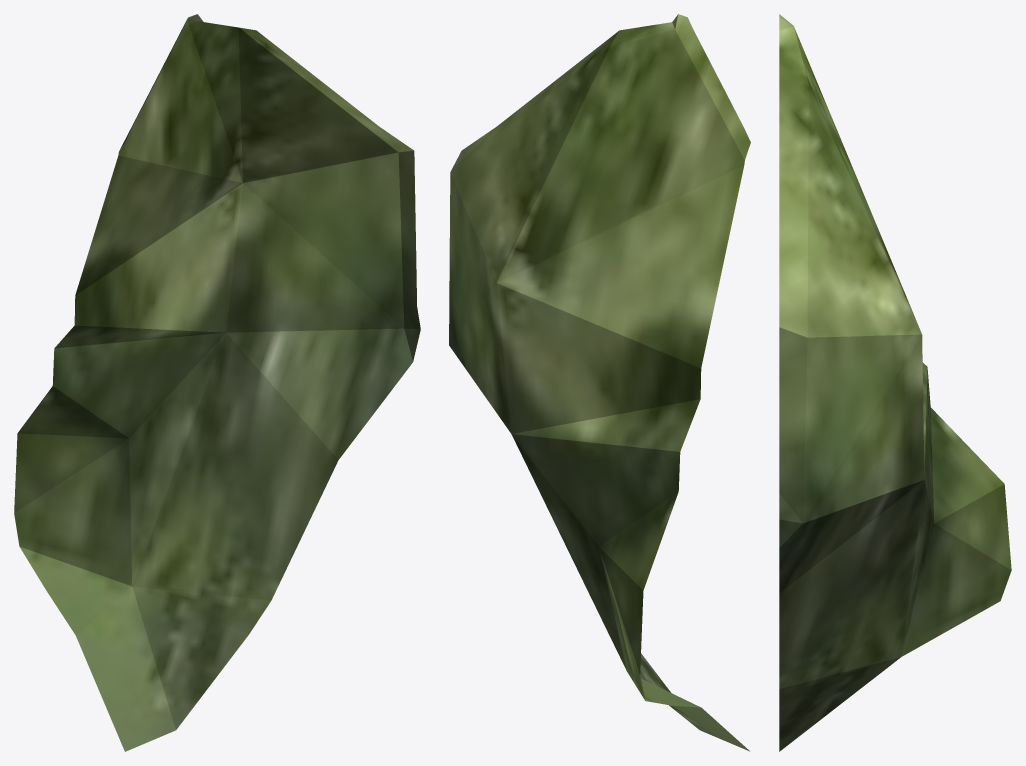
The picture shows the model from 3 angles, left to right: view 1: azimuth 30°, elevation 25°; view 2: azimuth 150°, elevation 25°; view 3: azimuth 270°, elevation 25°; orthographic projection. The views are drawn at different scales.
Size of the model in its own units: 0.4549 by 1.06 by 0.2952.
Materials: 1 (1 with a texture image).
